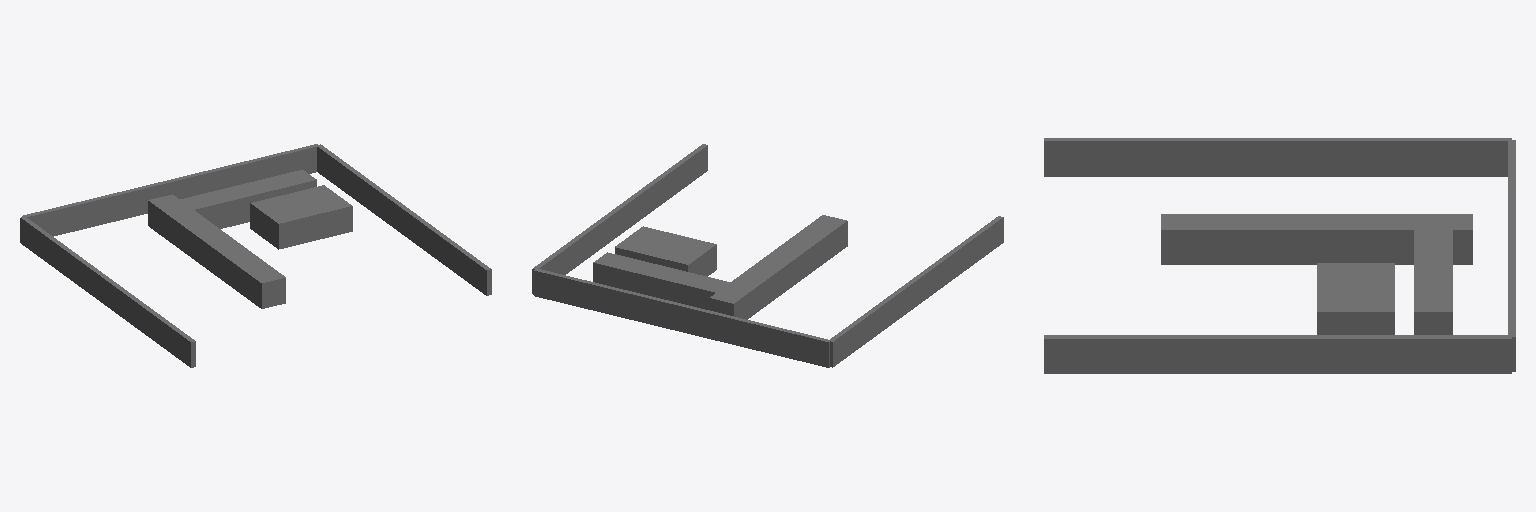
URDF robot description (plane):
<?xml version="0.0" ?>
<robot name="plane">
  <link name="planeLink">
  <contact>
      <lateral_friction value="1"/>
  </contact>
    <inertial>
      <origin rpy="0 0 0" xyz="0 0 0"/>
       <mass value=".0"/>
       <inertia ixx="0" ixy="0" ixz="0" iyy="0" iyz="0" izz="0"/>
    </inertial>
    <visual>
      <origin rpy="0 0 0" xyz="0 0 0"/>
      <geometry>
				<mesh filename="plane100.obj" scale="1 1 1"/>
      </geometry>
       <material name="white">
        <color rgba="1 1 1 1"/>
      </material>
    </visual>
    <collision>
      <origin rpy="0 0 0" xyz="0 0 -5"/>
      <geometry>
	 	<box size="200 200 10"/>
      </geometry>
    </collision>
  </link>
  
    <joint name="box_1_joint" type="fixed">
      <origin rpy="0 0 0" xyz="0 0 0.05"/>
      <parent link="planeLink"/>
      <child link="box_1"/>
    </joint>

    <link name="box_1">
    	<visual>
        <origin rpy="0 0 0" xyz="-1.5 0.5 0"/>
        <geometry>
  	 	<box size="0.5 4 0.5"/>
        </geometry>
        <material name="grey">
  	    <color rgba="0.5 0.5 0.5 1"/>
  	  </material>
      </visual>
      <collision>
        <origin rpy="0 0 0" xyz="-1.5 0 0"/>
        <geometry>
  	 	<box size="0.5 4 0.5"/>
        </geometry>
      </collision>
      <inertial>
        <mass value="1"/>
        <inertia ixx="0.0" ixy="0.0" ixz="0.0" iyy="0.0" iyz="0.0" izz="0.0"/>
      </inertial>
    </link>

    <joint name="box_5_joint" type="fixed">
      <origin rpy="0 0 0" xyz="0 0 0.05"/>
      <parent link="planeLink"/>
      <child link="box_5"/>
    </joint>

    <link name="box_5">
    	<visual>
        <origin rpy="0 0 0" xyz="0 2 0"/>
        <geometry>
  	 	<box size="2.5 0.5 0.5"/>
        </geometry>
        <material name="grey">
  	    <color rgba="0.5 0.5 0.5 1"/>
  	  </material>
      </visual>
      <collision>
        <origin rpy="0 0 0" xyz="0 2 0"/>
        <geometry>
  	 	<box size="2.5 0.5 0.5"/>
        </geometry>
      </collision>
      <inertial>
        <mass value="1"/>
        <inertia ixx="0.0" ixy="0.0" ixz="0.0" iyy="0.0" iyz="0.0" izz="0.0"/>
      </inertial>
    </link>
    
    <joint name="wall_1_joint" type="fixed">
      <origin rpy="0 0 0" xyz="0 0 0.05"/>
      <parent link="planeLink"/>
      <child link="wall_1"/>
    </joint>

    <link name="wall_1">
    	<visual>
        <origin rpy="0 0 0" xyz="-4 0 0"/>
        <geometry>
  	 	<box size="0.1 6 0.5"/>
        </geometry>
        <material name="grey">
  	    <color rgba="0.5 0.5 0.5 1"/>
  	  </material>
      </visual>
      <collision>
        <origin rpy="0 0 0" xyz="-4 0 0"/>
        <geometry>
  	 	<box size="0.1 6 0.5"/>
        </geometry>
      </collision>
      <inertial>
        <mass value="1"/>
        <inertia ixx="0.0" ixy="0.0" ixz="0.0" iyy="0.0" iyz="0.0" izz="0.0"/>
      </inertial>
    </link>    

    <joint name="wall_2_joint" type="fixed">
      <origin rpy="0 0 0" xyz="0 0 0.05"/>
      <parent link="planeLink"/>
      <child link="wall_2"/>
    </joint>

    <link name="wall_2">
    	<visual>
        <origin rpy="0 0 0" xyz="2 0 0"/>
        <geometry>
  	 	<box size="0.1 6 0.5"/>
        </geometry>
        <material name="grey">
  	    <color rgba="0.5 0.5 0.5 1"/>
  	  </material>
      </visual>
      <collision>
        <origin rpy="0 0 0" xyz="2 0 0"/>
        <geometry>
  	 	<box size="0.1 6 0.5"/>
        </geometry>
      </collision>
      <inertial>
        <mass value="1"/>
        <inertia ixx="0.0" ixy="0.0" ixz="0.0" iyy="0.0" iyz="0.0" izz="0.0"/>
      </inertial>
    </link>    

    <joint name="wall_3_joint" type="fixed">
      <origin rpy="0 0 0" xyz="0 0 0.05"/>
      <parent link="planeLink"/>
      <child link="wall_3"/>
    </joint>

    <link name="wall_3">
    	<visual>
        <origin rpy="0 0 0" xyz="-1 3 0"/>
        <geometry>
  	 	<box size="6 0.1 0.5"/>
        </geometry>
        <material name="grey">
  	    <color rgba="0.5 0.5 0.5 1"/>
  	  </material>
      </visual>
      <collision>
        <origin rpy="0 0 0" xyz="-1 3 0"/>
        <geometry>
  	 	<box size="6 0.1 0.5"/>
        </geometry>
      </collision>
      <inertial>
        <mass value="1"/>
        <inertia ixx="0.0" ixy="0.0" ixz="0.0" iyy="0.0" iyz="0.0" izz="0.0"/>
      </inertial>
    </link>    
    
    <joint name="wall_4_joint" type="fixed">
      <origin rpy="0 0 0" xyz="0 0 0.05"/>
      <parent link="planeLink"/>
      <child link="wall_4"/>
    </joint>

    <link name="wall_4">
    	<visual>
        <origin rpy="0 0 0" xyz="0.5 1 0"/>
        <geometry>
  	 	<box size="1.5 1 0.5"/>
        </geometry>
        <material name="grey">
  	    <color rgba="0.5 0.5 0.5 1"/>
  	  </material>
      </visual>
      <collision>
        <origin rpy="0 0 0" xyz="-1 -3 0"/>
        <geometry>
  	 	<box size="1.5 1 0.5"/>
        </geometry>
      </collision>
      <inertial>
        <mass value="1"/>
        <inertia ixx="0.0" ixy="0.0" ixz="0.0" iyy="0.0" iyz="0.0" izz="0.0"/>
      </inertial>
    </link>    

</robot>

--- Render facts (derived) ---
Views: 3 orthographic renders of the robot side by side, from view 1: azimuth 30°, elevation 25°; view 2: azimuth 150°, elevation 25°; view 3: azimuth 270°, elevation 25°.
Model plane with 7 links and 6 joints (6 fixed), rooted at planeLink, posed every joint at zero.
Visible links, largest first — view 1: wall_3, box_1, wall_1, wall_2, wall_4, box_5; view 2: wall_3, box_1, wall_1, wall_2, box_5, wall_4; view 3: wall_2, wall_1, box_1, wall_4, box_5, wall_3.
Boxes of the visible links, x1,y1,x2,y2 form: wall_3: (22, 144, 317, 236); box_1: (148, 194, 285, 308); wall_1: (20, 216, 195, 367); wall_2: (316, 144, 491, 295); wall_4: (250, 185, 352, 249); box_5: (180, 170, 316, 228); wall_3: (534, 269, 831, 367); box_1: (709, 215, 847, 319); wall_1: (830, 216, 1003, 367); wall_2: (532, 144, 707, 294); box_5: (593, 252, 729, 309); wall_4: (615, 226, 716, 276); wall_2: (1044, 335, 1511, 373); wall_1: (1044, 138, 1511, 176); box_1: (1161, 214, 1472, 264); wall_4: (1317, 263, 1394, 334); box_5: (1414, 230, 1452, 334); wall_3: (1508, 140, 1515, 371).
Bounding box of the posed robot: 6.1 × 6.05 × 0.5 m (x, y, z).
0 mesh visuals loaded from 1 distinct referenced files (none loaded); not drawn: 1 (file found but could not be loaded).